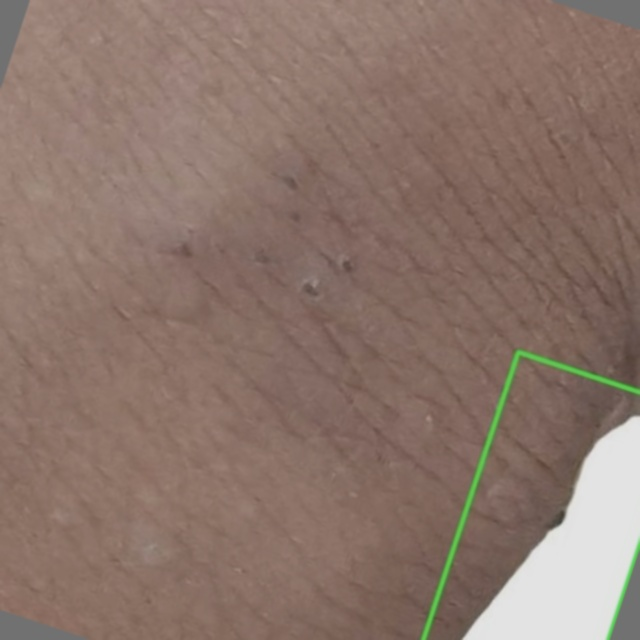Scabies: (423, 352, 639, 639)
